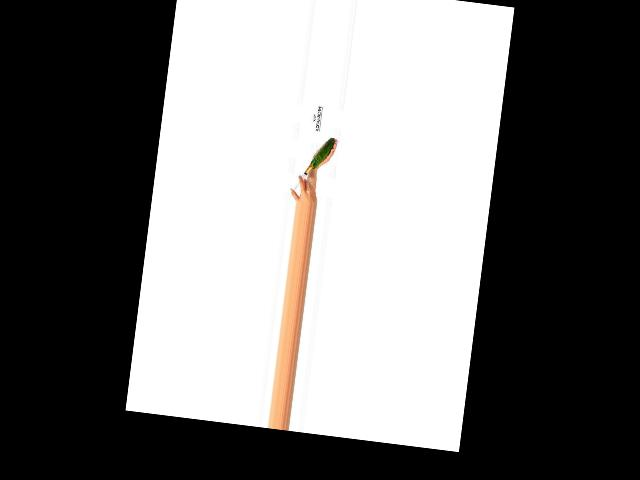cucumber: (309, 136, 335, 171)
